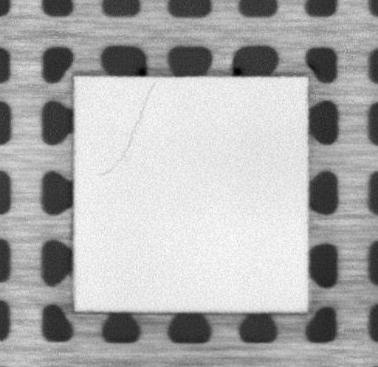DIE_CRACK: (98, 82, 155, 175)
